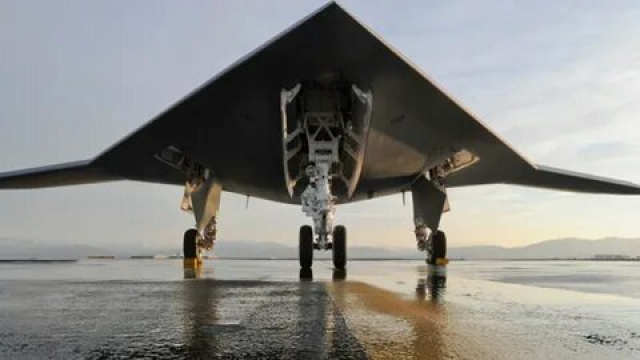military drone: (0, 0, 640, 266)
